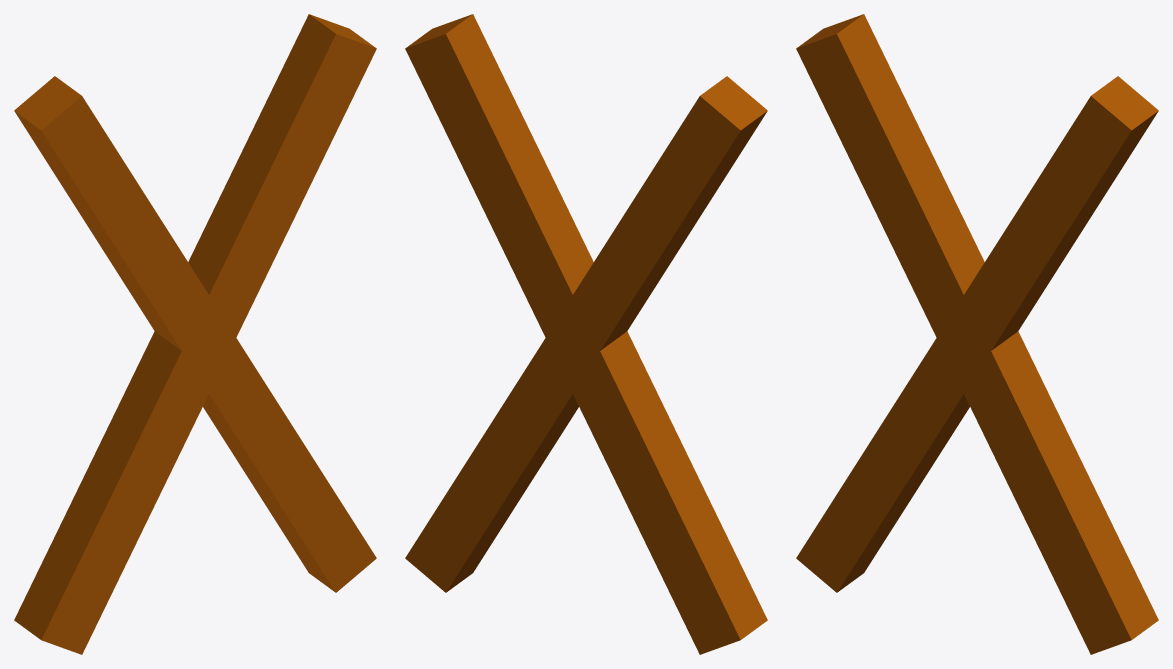
File: haritukedai.fbx
3 views of the same model, side by side, from view 1: azimuth 30°, elevation 25°; view 2: azimuth 150°, elevation 25°; view 3: azimuth 330°, elevation 25° (orthographic).
Visible parts, largest first — view 1: Cube.001; view 2: Cube.001; view 3: Cube.001.
Part boxes in pixels (left/top/right/bottom): Cube.001: left=14, top=14, right=376, bottom=654; Cube.001: left=405, top=14, right=767, bottom=654; Cube.001: left=796, top=14, right=1158, bottom=654.
Bounding box in the file's own units: 285 × 453 × 40.
